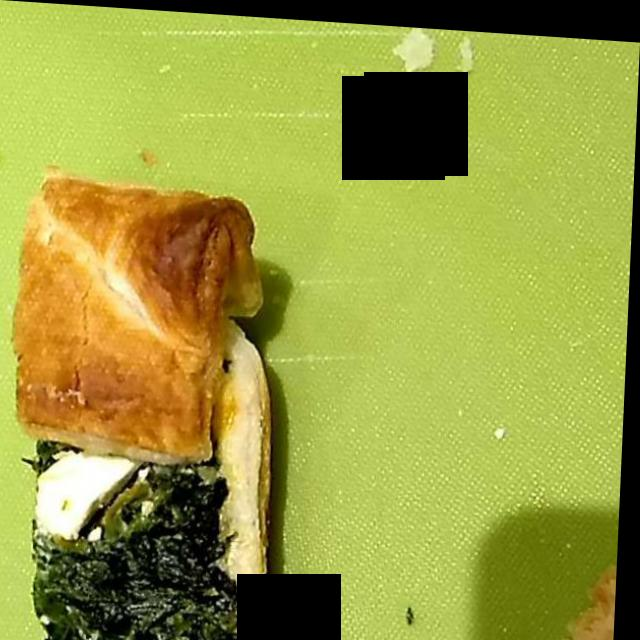quiche-with-spinach-baked-with-cake-dough: (16, 175, 282, 640)
